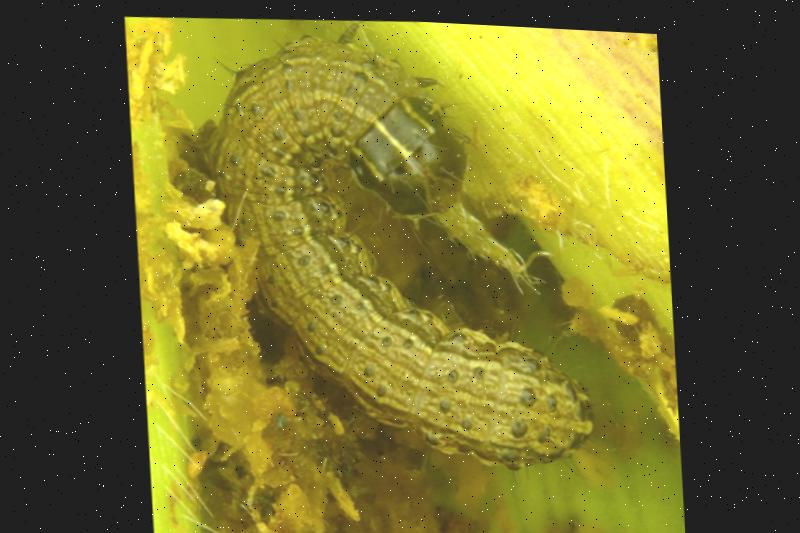fall-armyworm: (202, 17, 591, 466)
